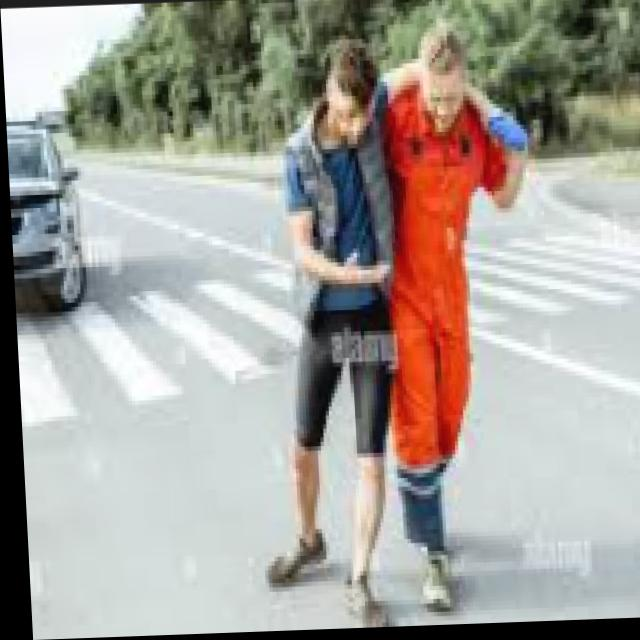injury: (321, 46, 383, 150), (418, 31, 470, 141)
no injury: (276, 21, 513, 630)
